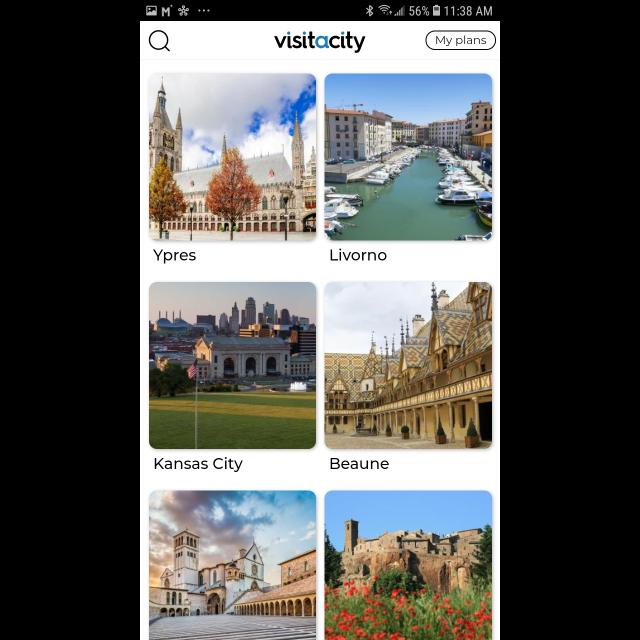icon: (149, 30, 171, 52)
image: (324, 282, 492, 450), (150, 282, 316, 450), (324, 74, 492, 240), (150, 73, 316, 241), (324, 490, 492, 640), (150, 490, 316, 640), (274, 32, 366, 54)
text: (154, 458, 243, 472), (330, 249, 386, 261), (154, 248, 196, 264), (330, 458, 390, 469)
textbutton: (426, 31, 496, 51)
uppertaskbar: (140, 1, 500, 22)
